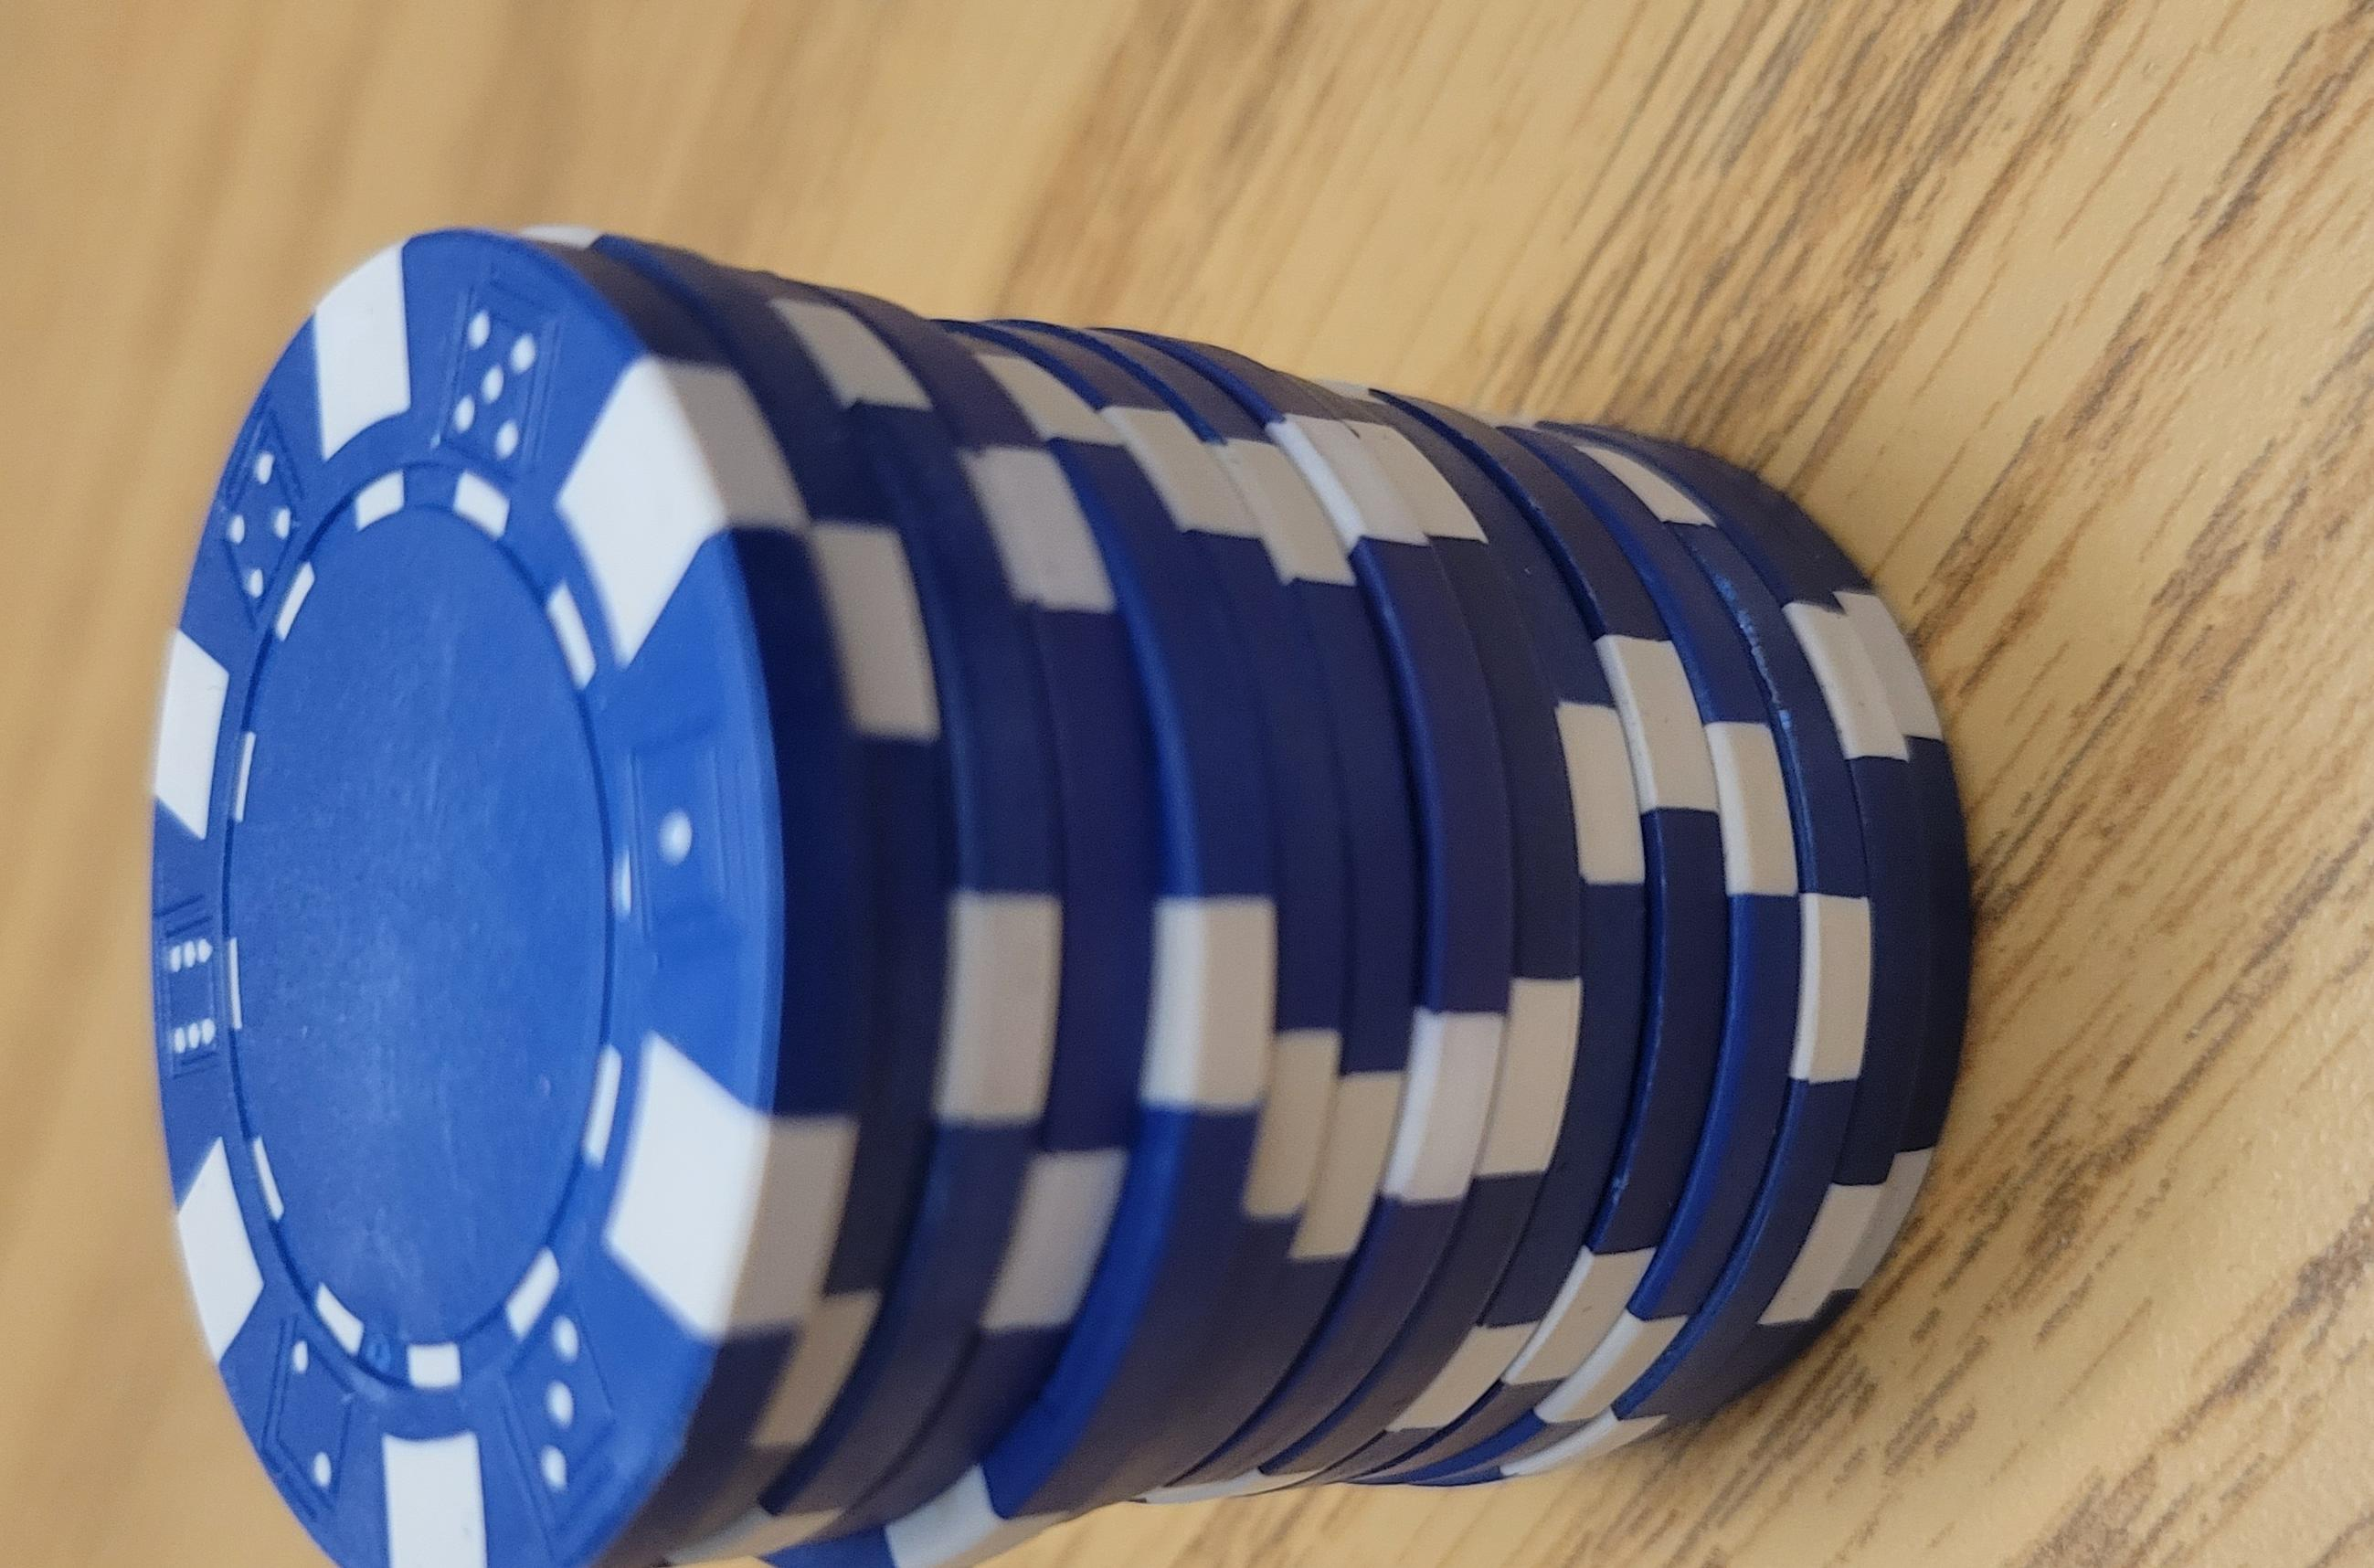Chip: (2, 156, 1639, 1568)
